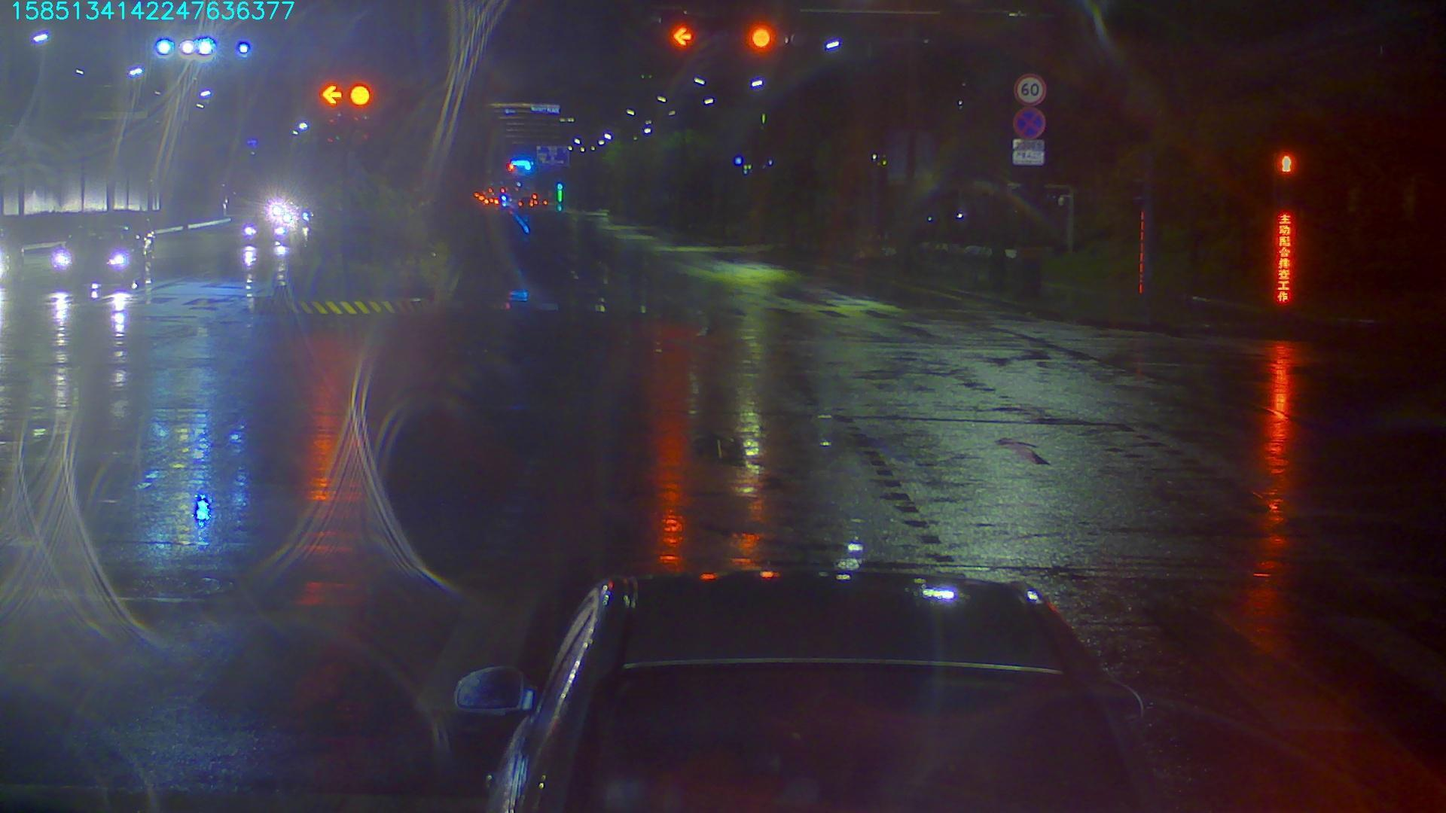red: (749, 20, 776, 50), (672, 20, 695, 50)
